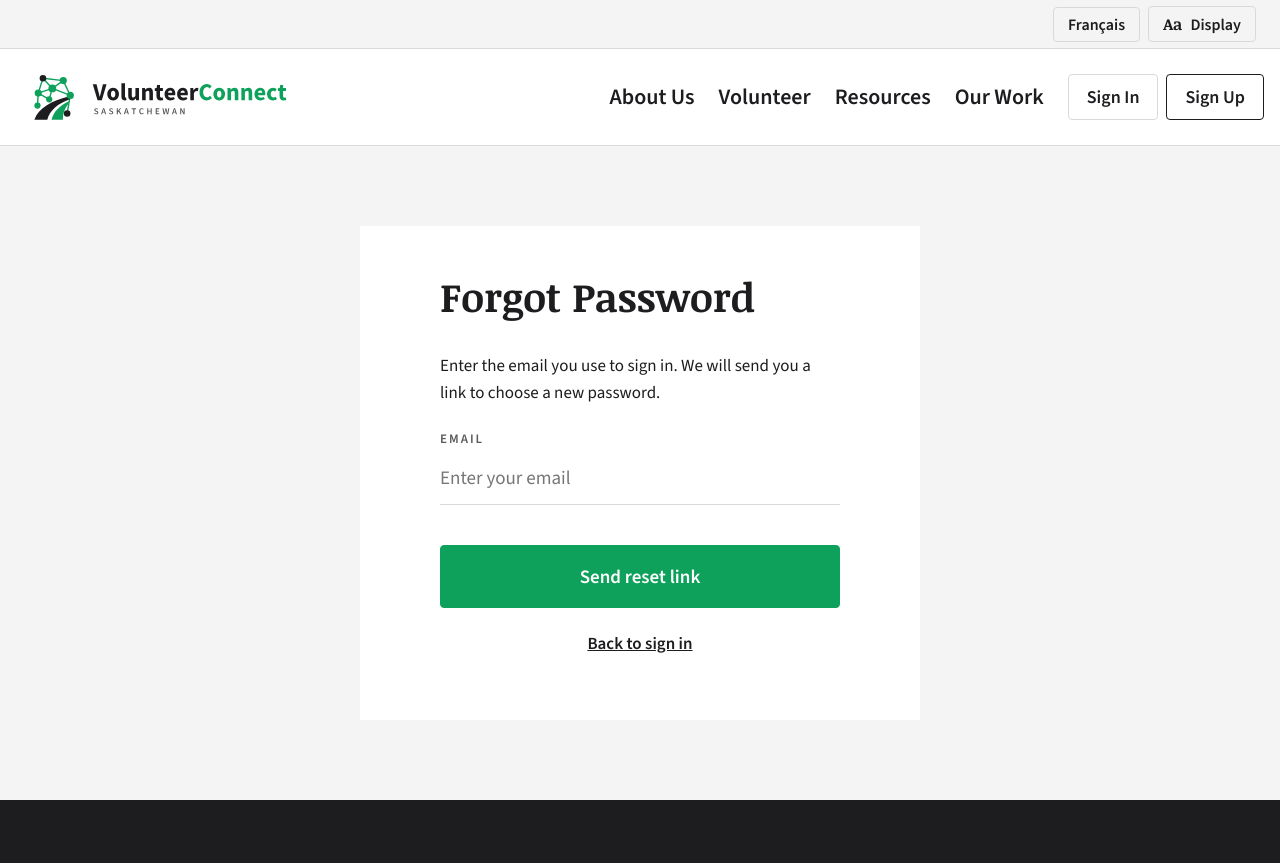
asks for an email and shows the same message whether or not the account exists
Click the button "Send reset link" at (640, 577), box [440,545,840,608]
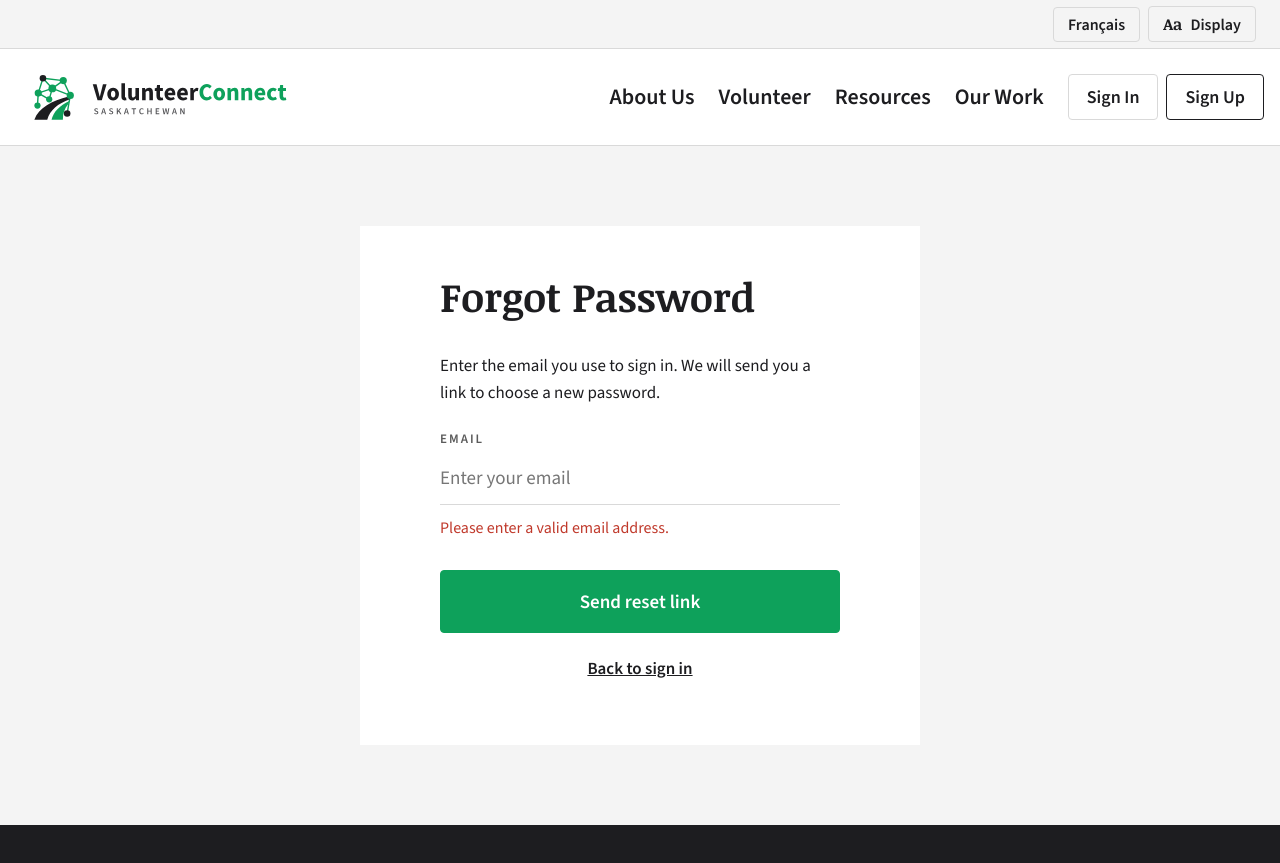
Expected: the message reads "Please enter a valid email address.", [440,517,669,538]
Type " amy@example.test " into the field labelled "Email" at (640, 478), box [440,451,840,505]
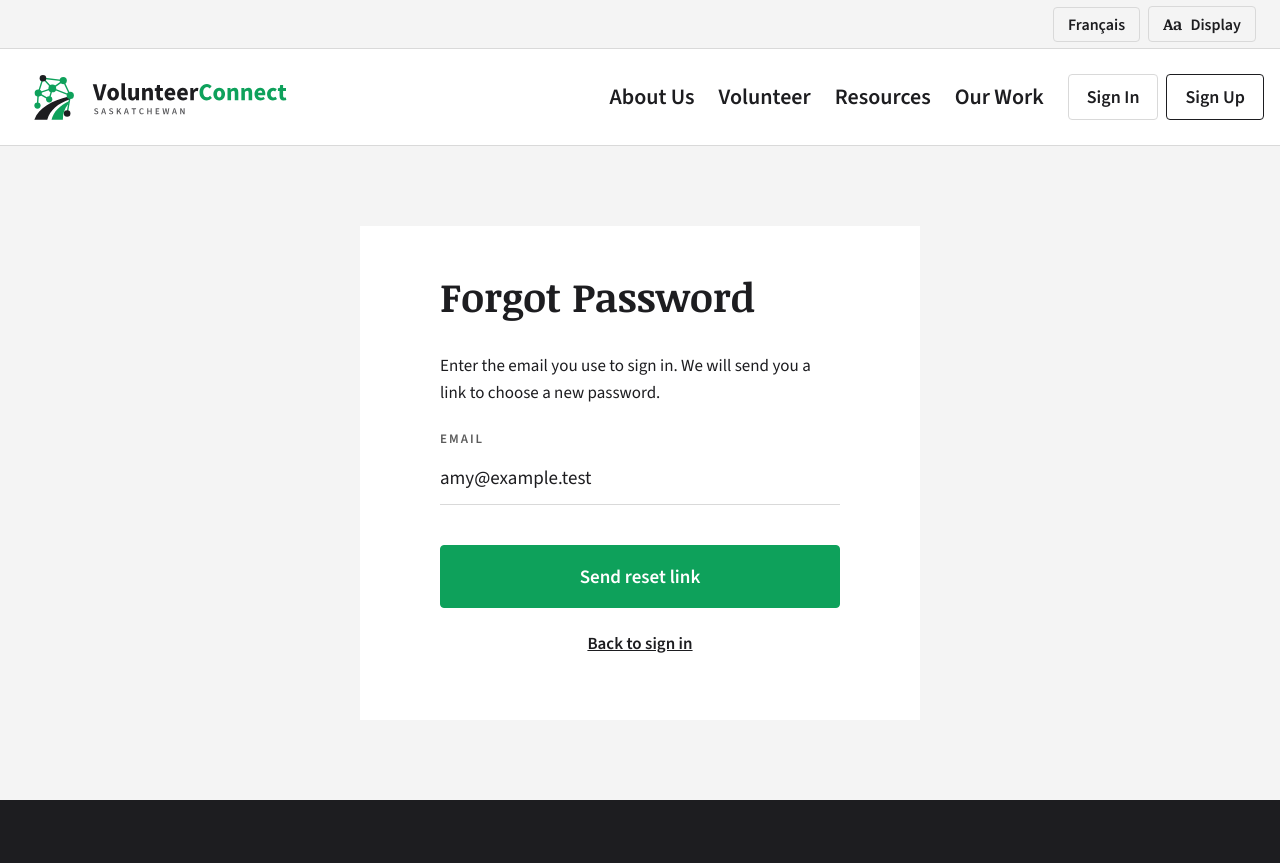
Click the button "Send reset link" at (640, 577), box [440,545,840,608]
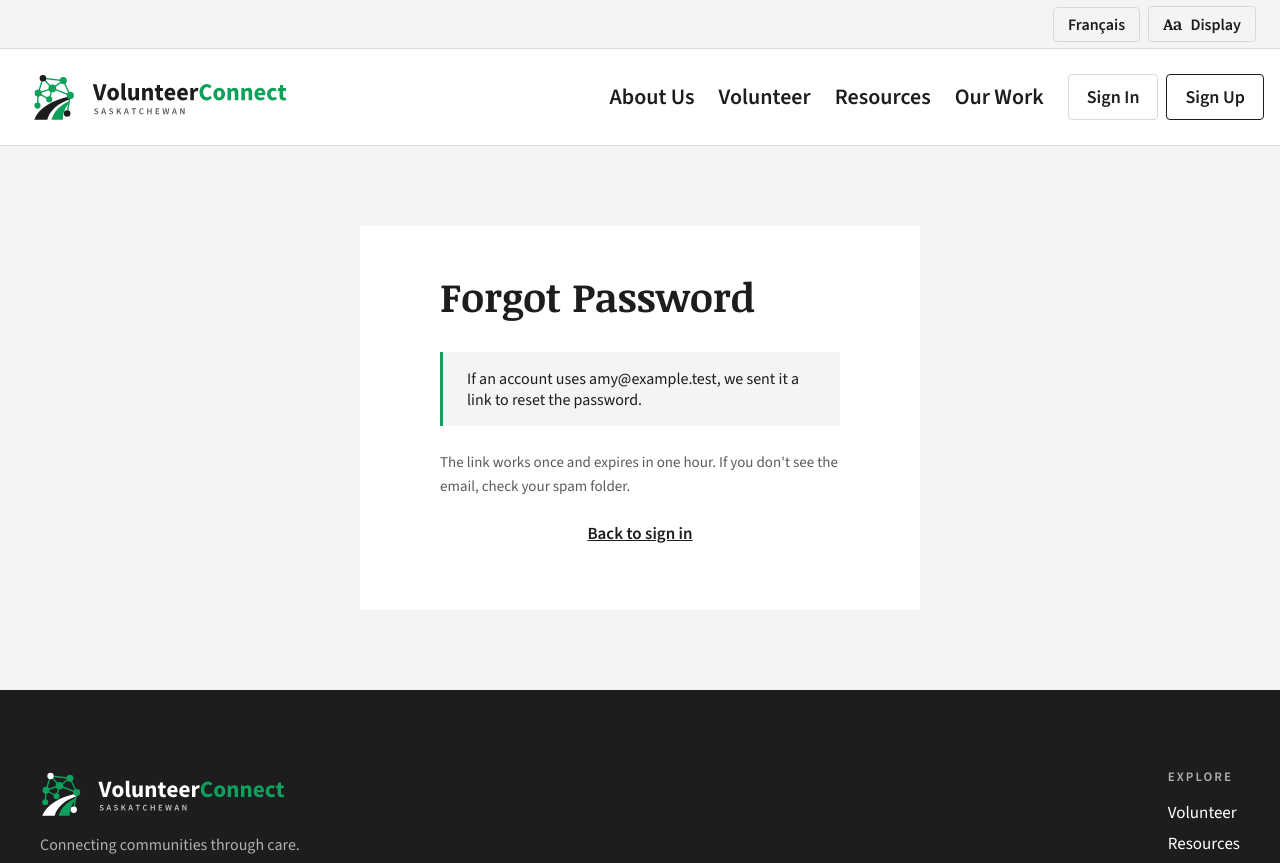
Expected: the message shows "If an account uses amy@example.test, we sent it a link", [467,368,799,410]
